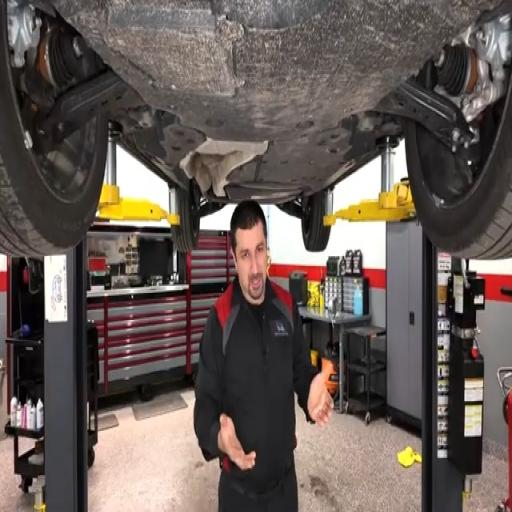tire: (0, 0, 107, 255), (405, 82, 511, 258), (172, 190, 200, 253), (301, 191, 330, 251)
wheel: (0, 0, 107, 255), (405, 82, 511, 258), (172, 185, 200, 253)
